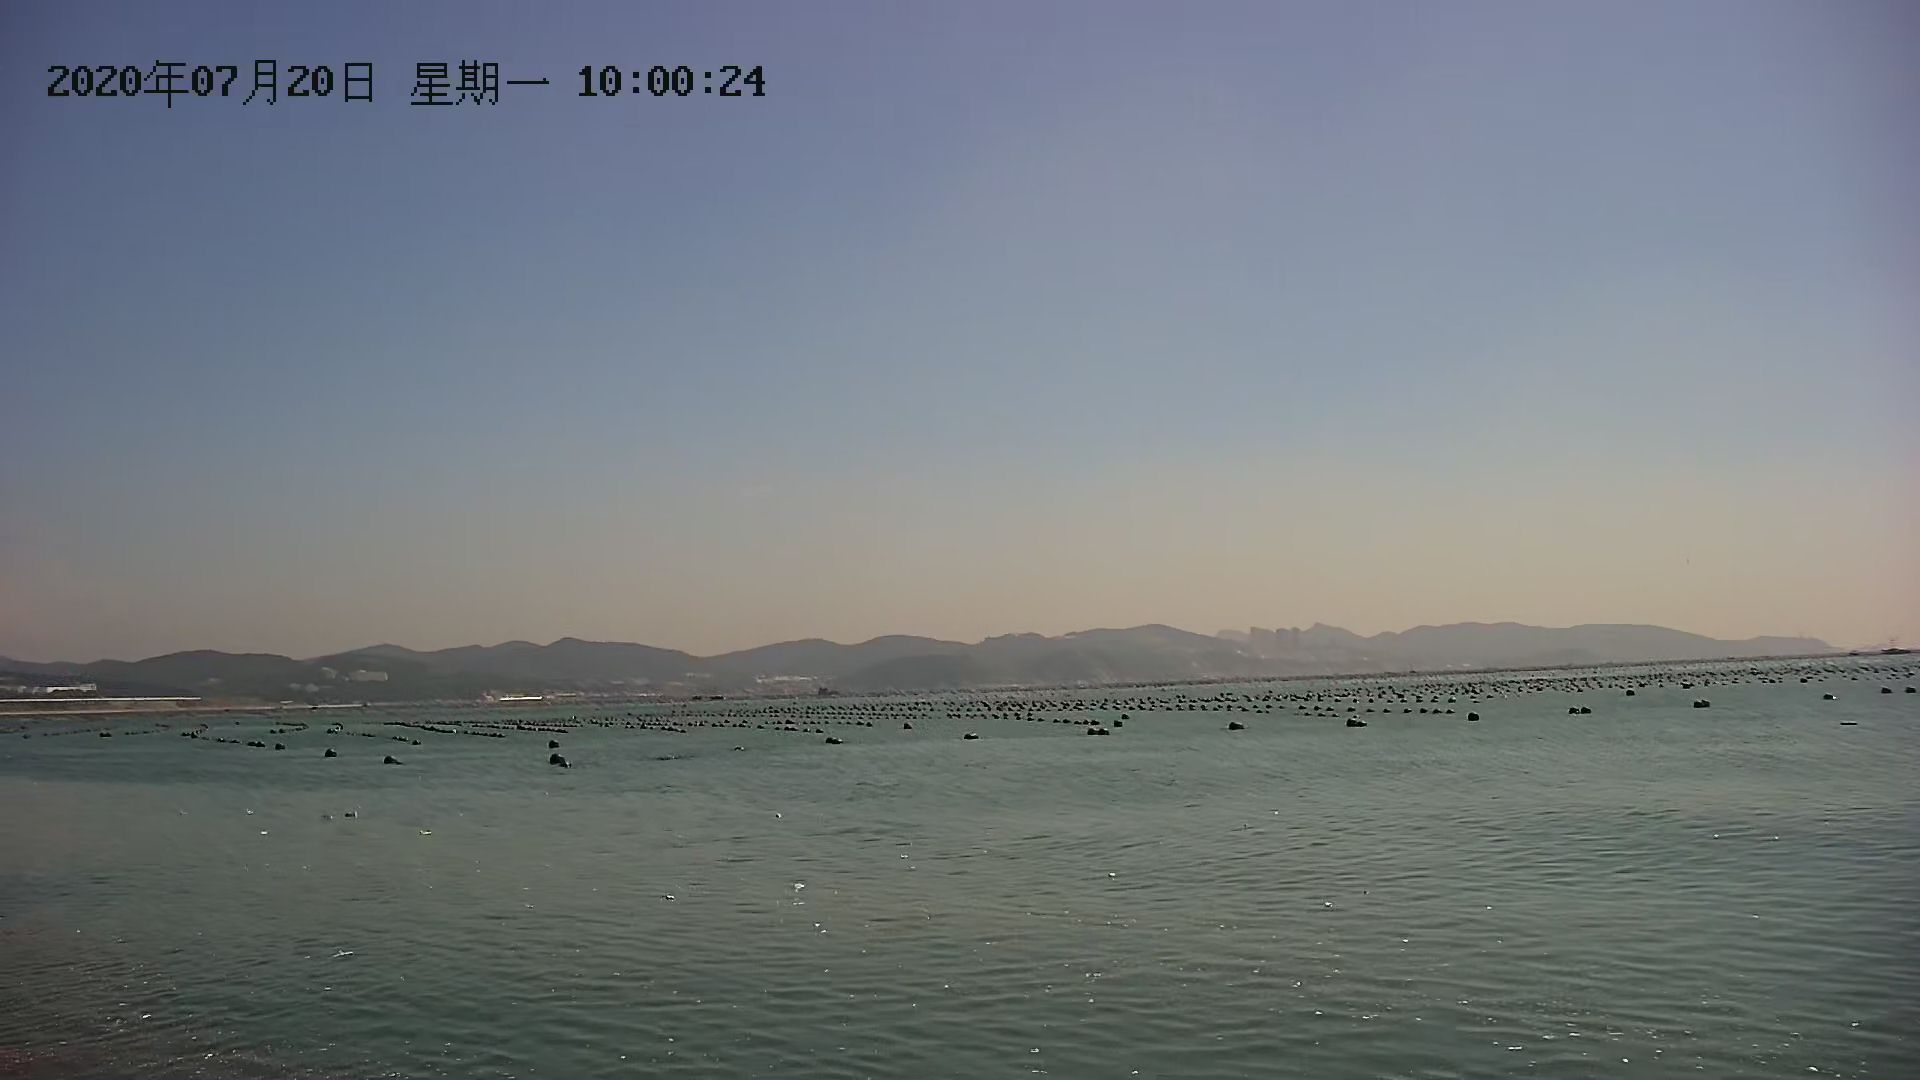ball: (1342, 716, 1373, 735), (1093, 723, 1116, 745), (1222, 721, 1253, 735), (549, 754, 574, 767), (825, 737, 848, 752), (1465, 711, 1485, 725), (380, 750, 401, 764), (320, 749, 342, 761)
